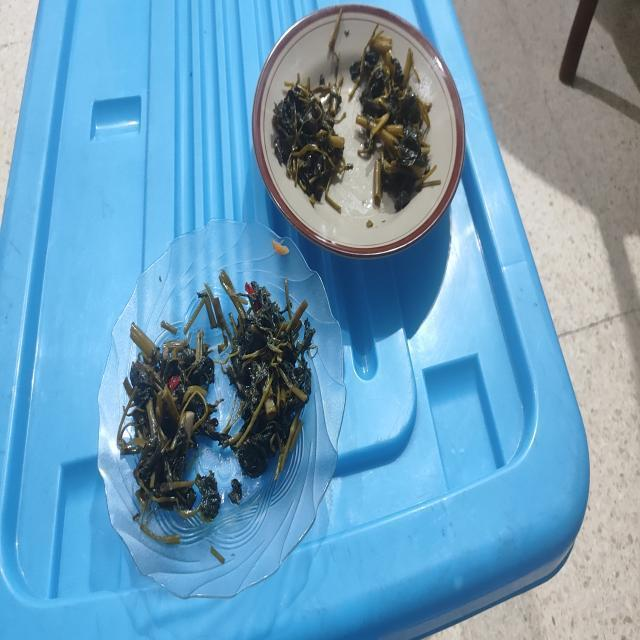tumis_kangkung: (118, 324, 222, 522), (221, 278, 316, 479), (350, 32, 436, 210), (272, 74, 353, 206)
